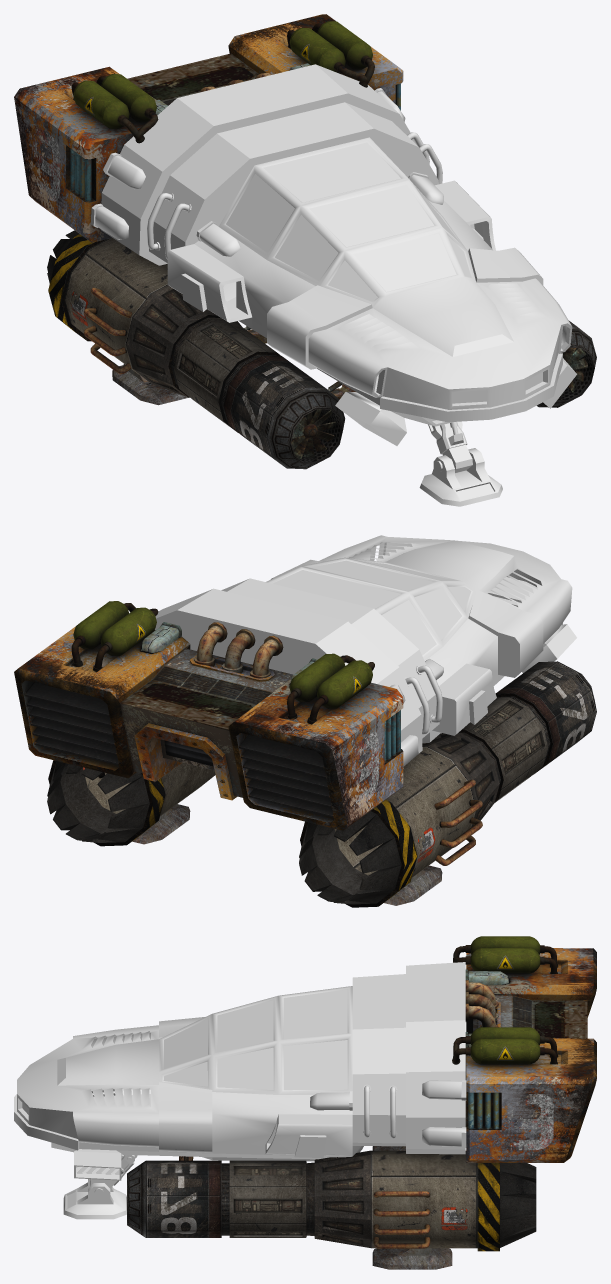
The model's file is spacecraft_01.FBX.
3 renders of one model, top to bottom at view 1: azimuth 30°, elevation 25°; view 2: azimuth 150°, elevation 25°; view 3: azimuth 270°, elevation 25°, orthographic. The views are drawn at different scales.
Visible parts, largest first — view 1: body1, turbine1, body2, turbine2; view 2: body2, body1, turbine1, turbine2; view 3: body1, turbine2, body2.
Part boxes in pixels (x1,y1,x2,y2): body1: (90, 64, 576, 506); turbine1: (47, 230, 356, 469); body2: (14, 14, 403, 242); turbine2: (537, 321, 596, 407); body2: (14, 601, 403, 830); body1: (155, 535, 576, 768); turbine1: (299, 661, 596, 907); turbine2: (47, 760, 215, 846); body1: (14, 962, 466, 1219); turbine2: (127, 1150, 536, 1269); body2: (452, 936, 596, 1162).
Bounding box in the file's own units: 216 × 140 × 341.
